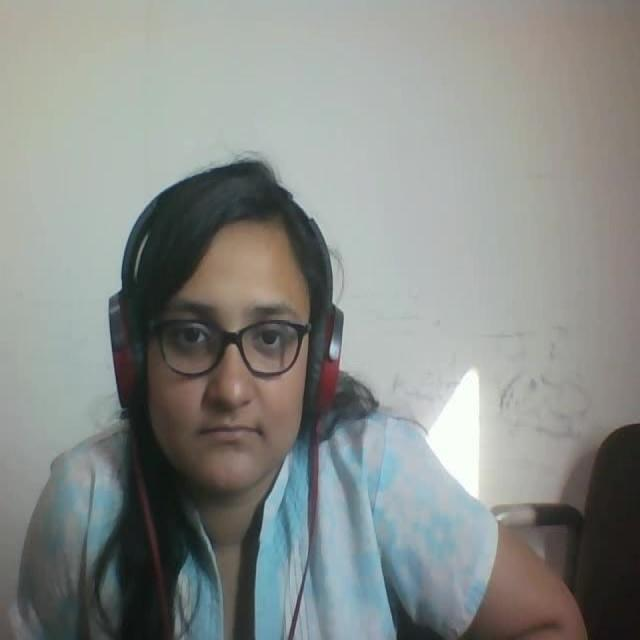Engaged: (110, 149, 354, 520)
